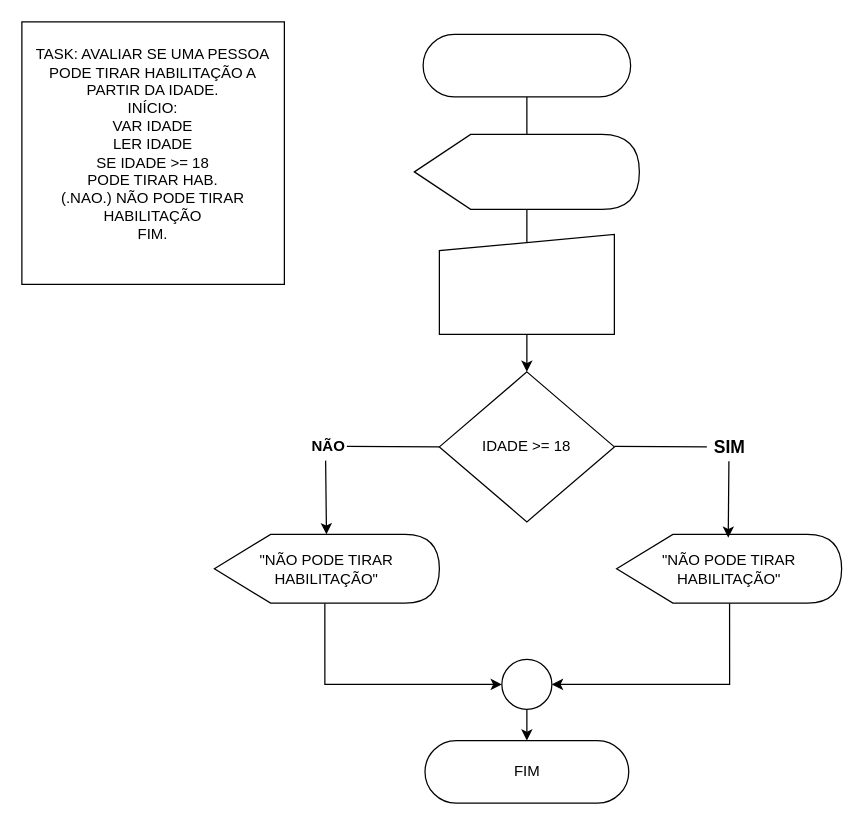
This 864x825 diagram has some shape labels left out. Here are the shapes that lost their labels. From the top down, the box of each, then its label:
(422, 33, 631, 97): INÍCIO
(413, 133, 639, 209): "INSIRA A IDADE"
(438, 233, 614, 334): IDADE
